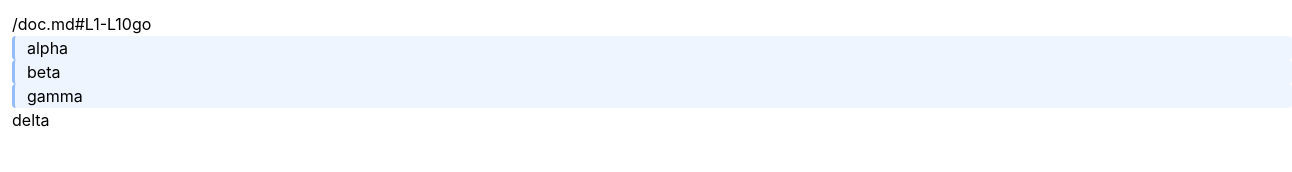
useLineAnchor › strips the anchor when a highlighted block is clicked
This screenshot has width=1292, height=172.
Click the text with class "line-anchor-highlight" showing "alpha" at x=652, y=48, box x1=12 y1=36 x2=1291 y2=60
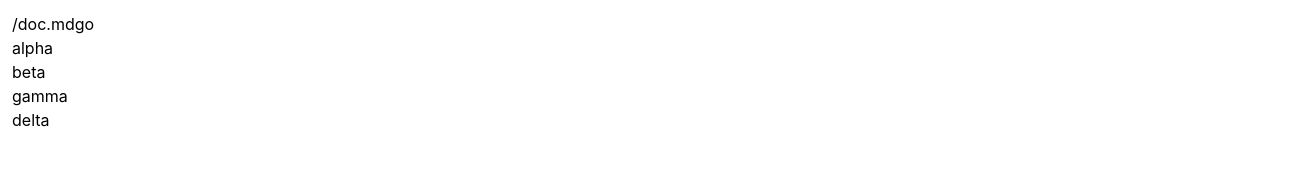
Expected: the text with test id "loc" no longer shows "#"
